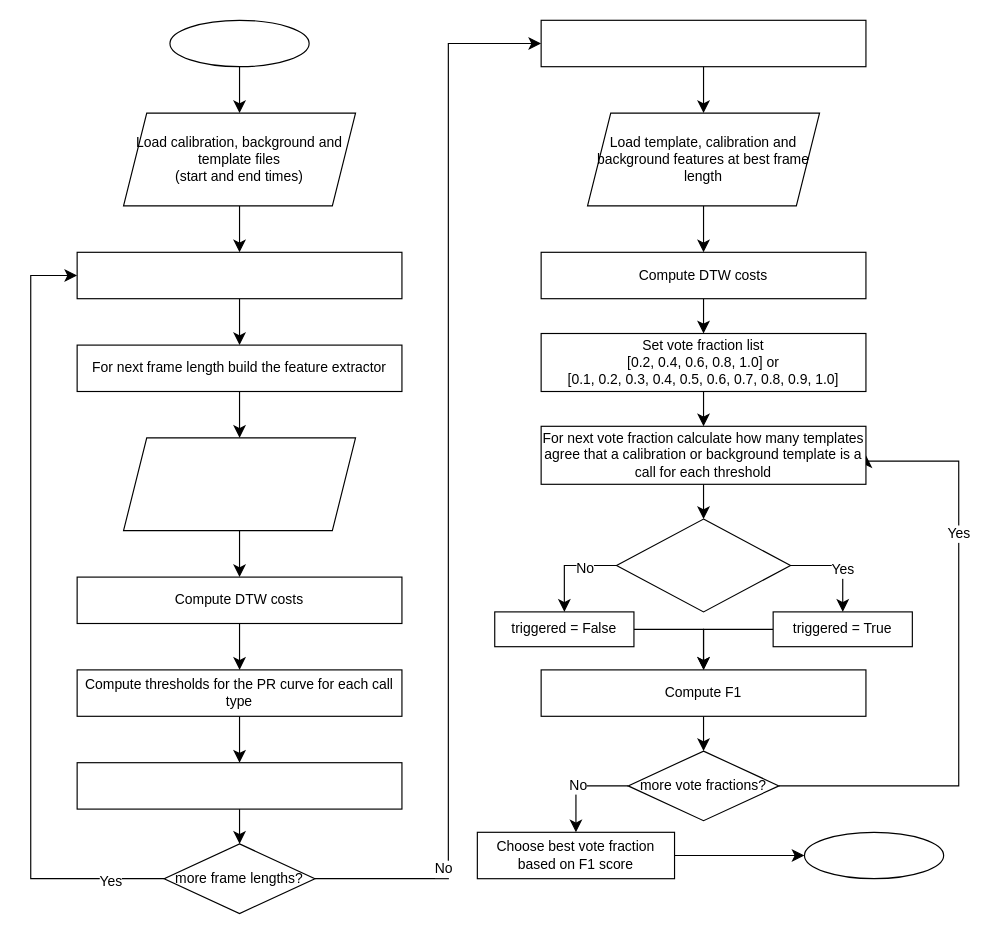
Some shapes in this 991 by 934 pixel diagram are drawn without their labels. Each missing label, with the centre of its shape:
"call votes >= vote fraction" belongs at (x=703, y=565).
"Choose best threshold per call type based on F1 value" belongs at (x=239, y=785).
"Load template, calibration and background features at chosen frame length" belongs at (x=239, y=484).
"Select best frame length" belongs at (x=703, y=43).
"Set frame length list [0.064, 0.096, 0.128, 0.192, 0.256, 0.384, 0.512]" belongs at (x=239, y=275).
"Start Calibration" belongs at (x=239, y=43).
"Stop Calibration" belongs at (x=873, y=855).
